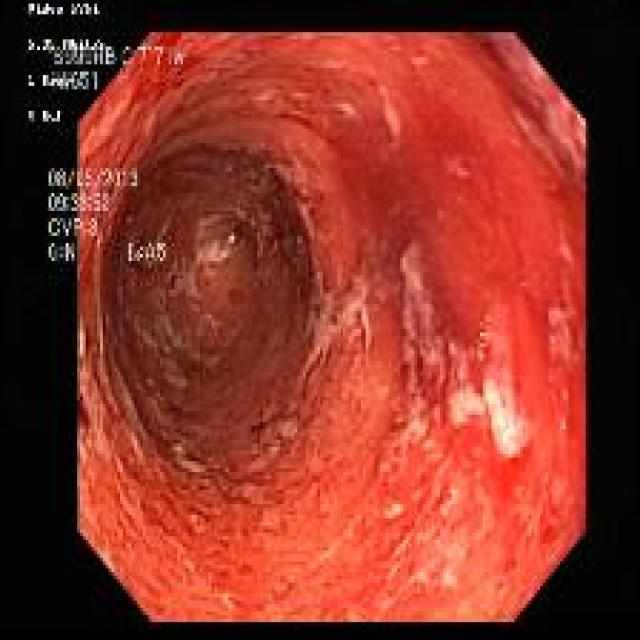ulcerative-colitis: (79, 33, 585, 621)
